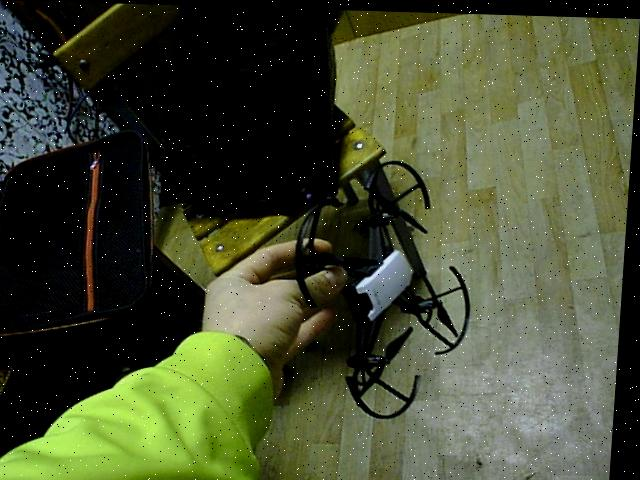drone: (279, 151, 496, 430)
